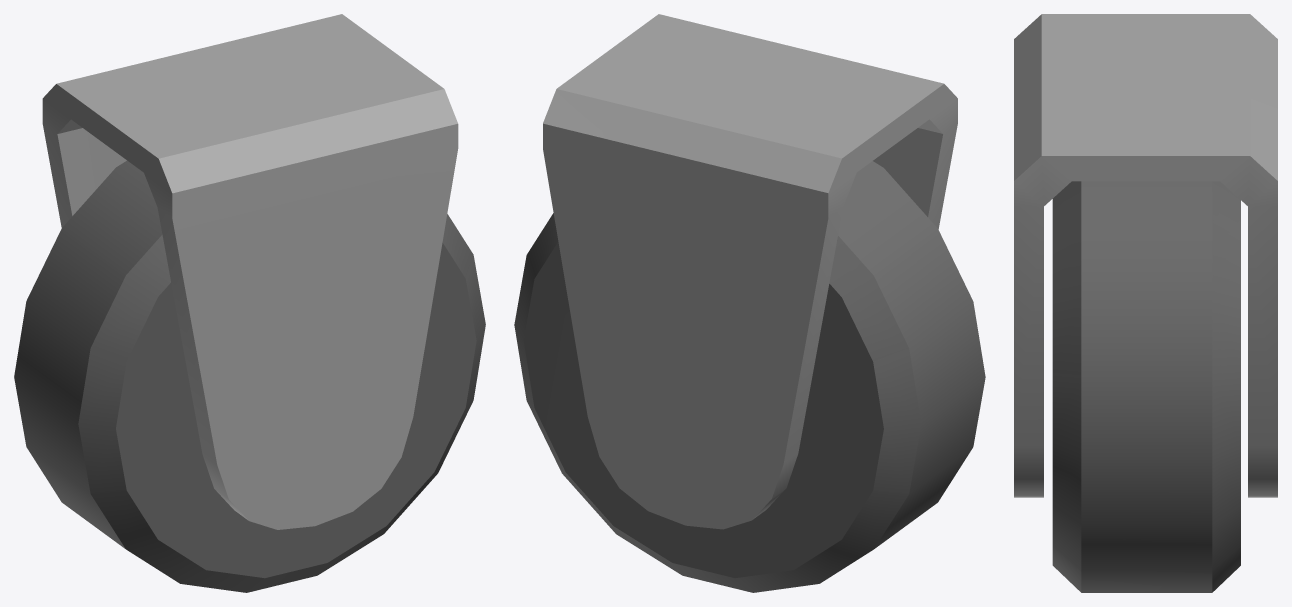
Rendered from hypercasual_prop002.FBX.
The picture shows the model from 3 angles, left to right: view 1: azimuth 30°, elevation 25°; view 2: azimuth 150°, elevation 25°; view 3: azimuth 270°, elevation 25°; orthographic projection.
Visible parts, largest first — view 1: hypercasual_prop002; view 2: hypercasual_prop002; view 3: hypercasual_prop002.
Boxes of the visible parts, x1,y1,x2,y2 form: hypercasual_prop002: (14, 14, 485, 592); hypercasual_prop002: (514, 14, 985, 592); hypercasual_prop002: (1014, 14, 1277, 592).
Bounding box in the file's own units: 0.8944 × 0.9957 × 0.493.
1 material, 1 textured.
